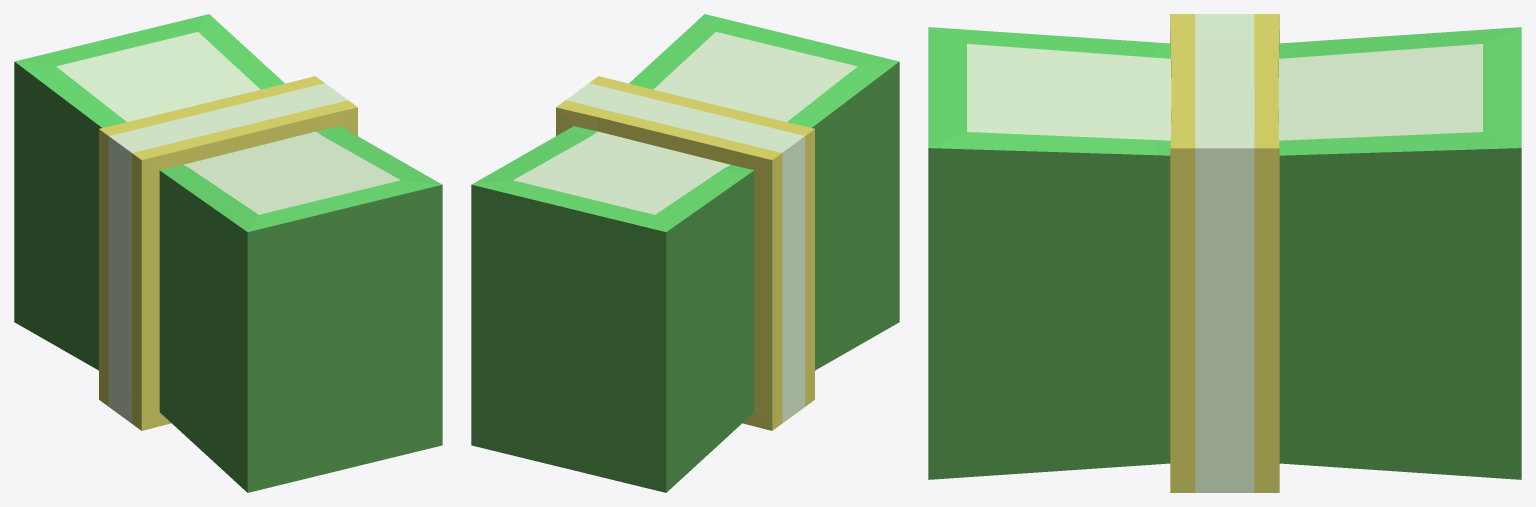
Rendered from Money.fbx.
The picture shows the model from 3 angles, left to right: view 1: azimuth 30°, elevation 25°; view 2: azimuth 150°, elevation 25°; view 3: azimuth 270°, elevation 25°; orthographic projection. The views are drawn at different scales.
Visible parts, largest first — view 1: Money; view 2: Money; view 3: Money.
Boxes of the visible parts, x1,y1,x2,y2 form: Money: [14, 14, 442, 492]; Money: [471, 14, 899, 492]; Money: [928, 14, 1521, 492].
Bounding box in the file's own units: 100 × 53.59 × 64.07.
